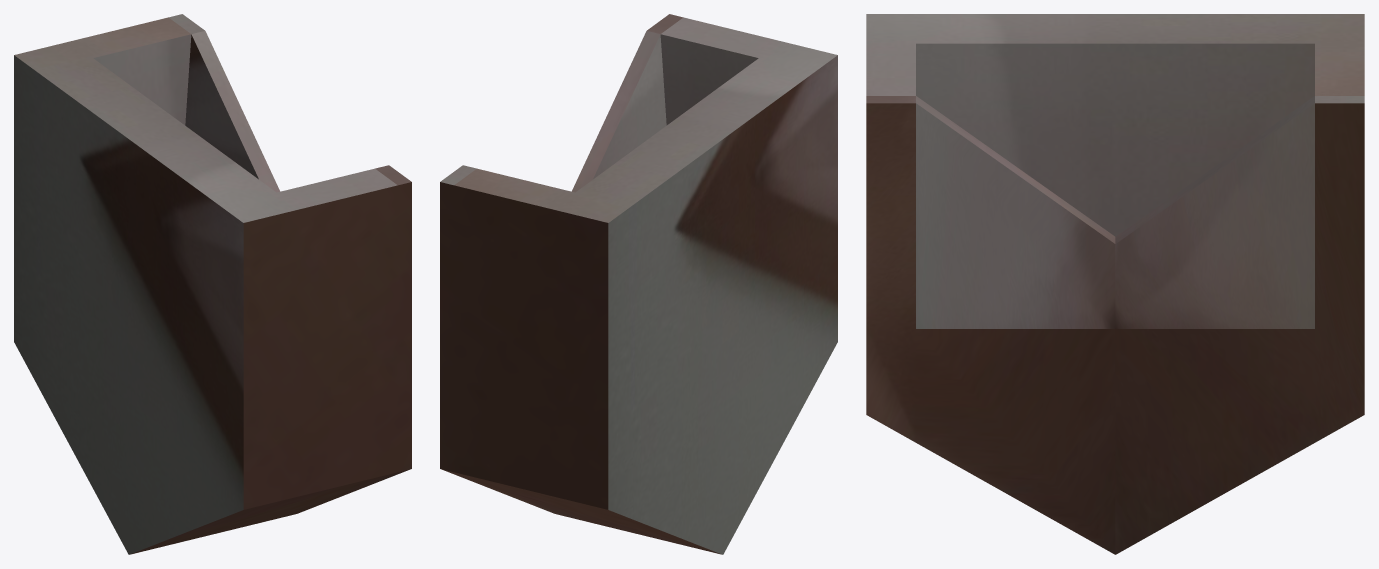
Rendered from DuvarLamba.fbx.
3 renders of one model, left to right at view 1: azimuth 30°, elevation 25°; view 2: azimuth 150°, elevation 25°; view 3: azimuth 270°, elevation 25°, orthographic. The views are drawn at different scales.
Parts seen in each view (by area): view 1: Cube; view 2: Cube; view 3: Cube.
Part boxes in pixels (x1,y1,x2,y2): Cube: (14,14,411,554); Cube: (440,14,837,554); Cube: (866,14,1364,554).
Bounding box in the file's own units: 84.77 × 200 × 200.
